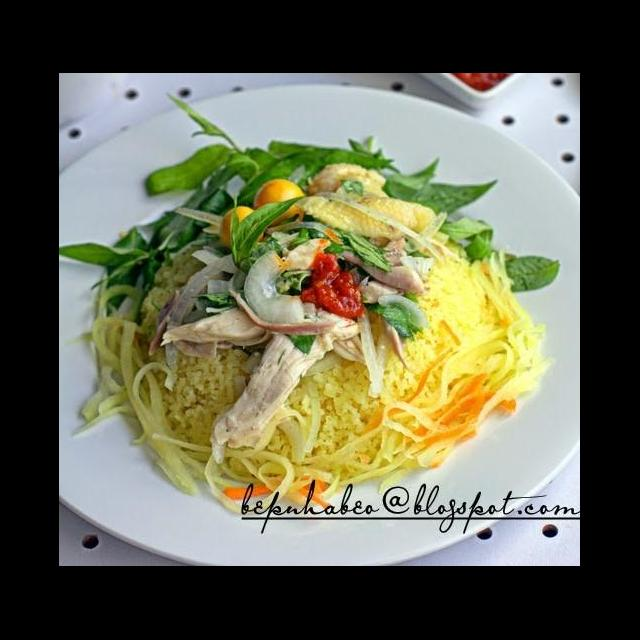com: (381, 256, 502, 420), (268, 356, 382, 466), (158, 336, 264, 451), (136, 238, 224, 342)
com ga: (60, 108, 580, 566)
rau ram: (61, 154, 250, 322), (140, 90, 302, 236), (262, 132, 502, 225), (434, 210, 564, 296)
thit ga: (206, 304, 366, 468), (296, 160, 452, 258), (308, 226, 429, 314), (158, 296, 288, 362)
trung: (252, 176, 312, 234), (218, 203, 268, 250)
